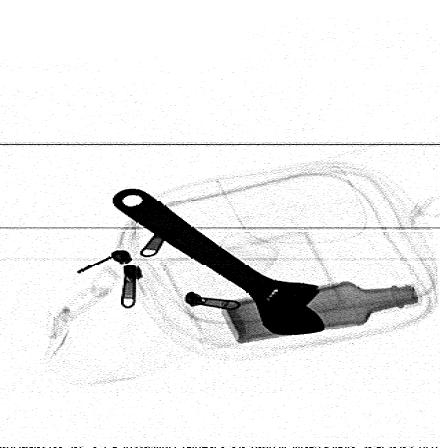Wrench: (111, 186, 329, 338)
